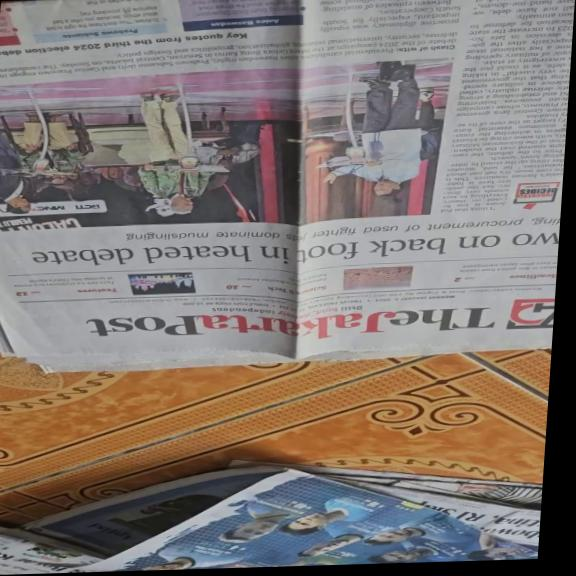Kertas: (0, 0, 570, 349), (0, 236, 552, 371)
